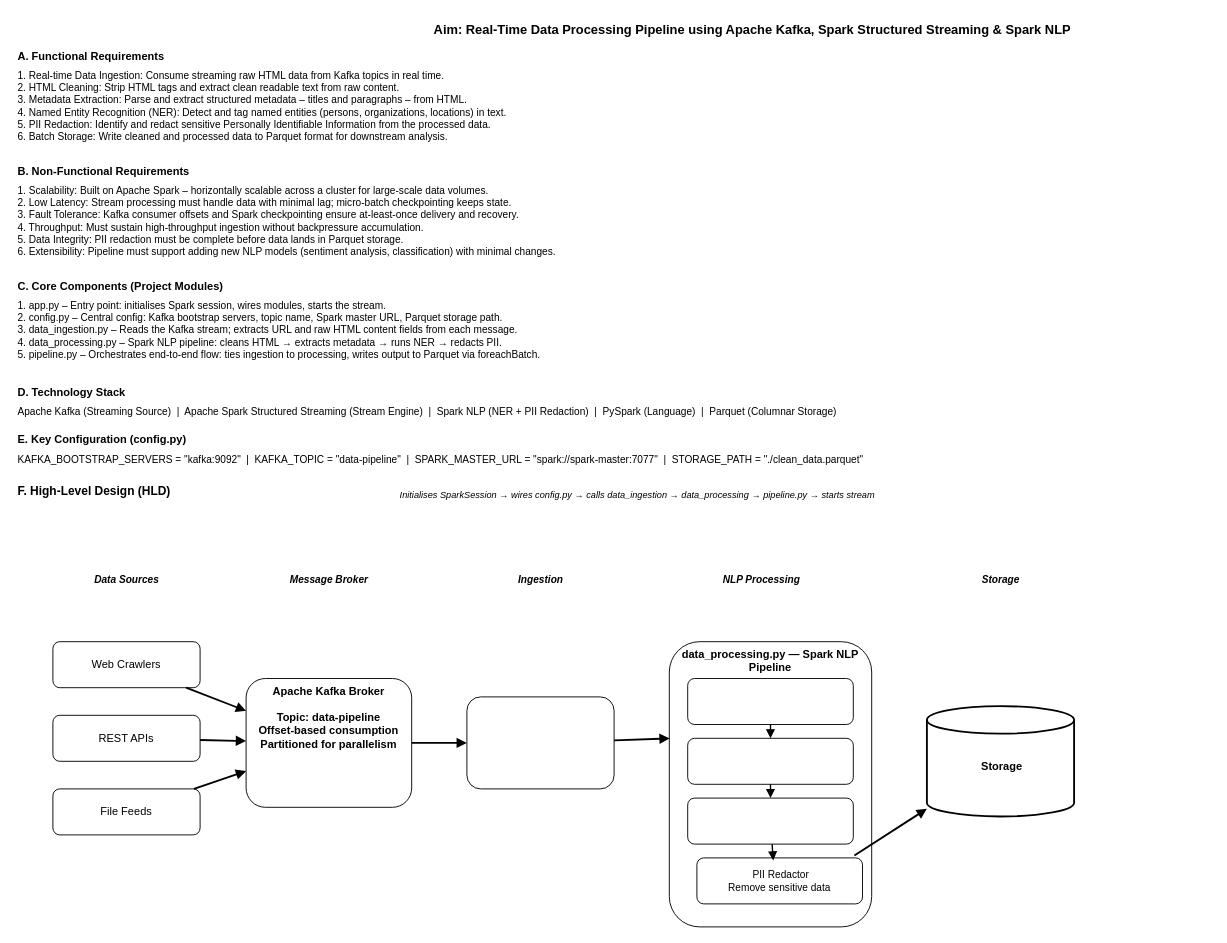
Some shapes in this 1227 by 943 pixel diagram are drawn without their labels. Here are the shapes that lost their labels. From the top down, the centre of each, then its label:
At (x=770, y=701): "HTML Cleaner Strip tags → clean text".
At (x=540, y=742): "data_ingestion.py Spark readStream Extracts: URL + HTML".
At (x=770, y=760): "Metadata Extractor Titles + Paragraphs".
At (x=770, y=820): "NER Annotator Persons · Orgs · Locations".
